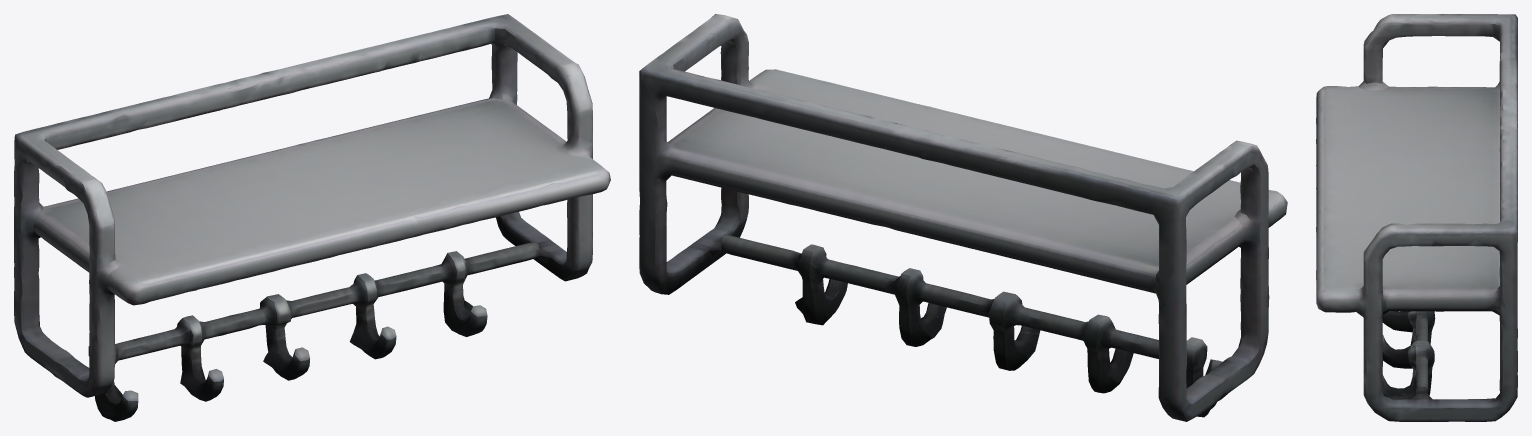
The model's file is wall_shelf.glb.
The picture shows the model from 3 angles, left to right: view 1: azimuth 30°, elevation 25°; view 2: azimuth 150°, elevation 25°; view 3: azimuth 270°, elevation 25°; orthographic projection. The views are drawn at different scales.
Parts seen in each view (by area): view 1: WallMountedShelf; view 2: WallMountedShelf; view 3: WallMountedShelf.
Part boxes in pixels (box(x1,y1,x2,y2)): WallMountedShelf: box(14, 14, 610, 421); WallMountedShelf: box(639, 14, 1287, 421); WallMountedShelf: box(1316, 14, 1517, 421).
Size of the model in its own units: 0.6 by 0.2891 by 0.2349.
Materials: 1 (1 with a texture image).
